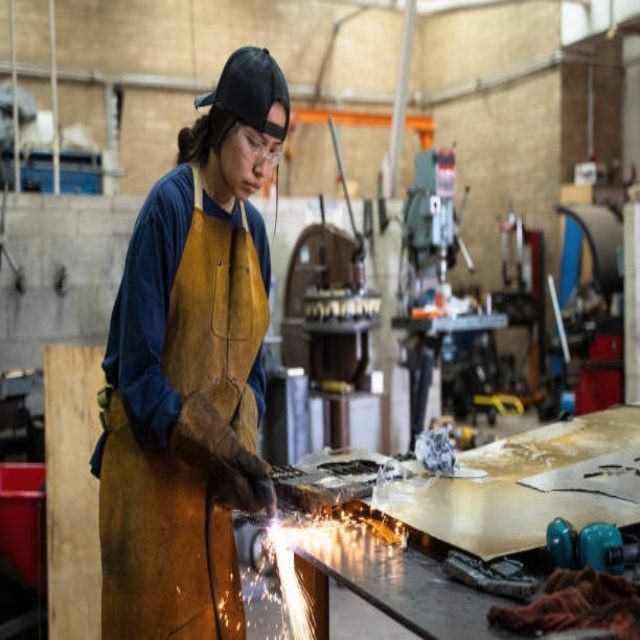Gafas: (238, 124, 285, 170)
Guantes: (172, 391, 276, 513)
Sin_mascara: (238, 173, 266, 202)
